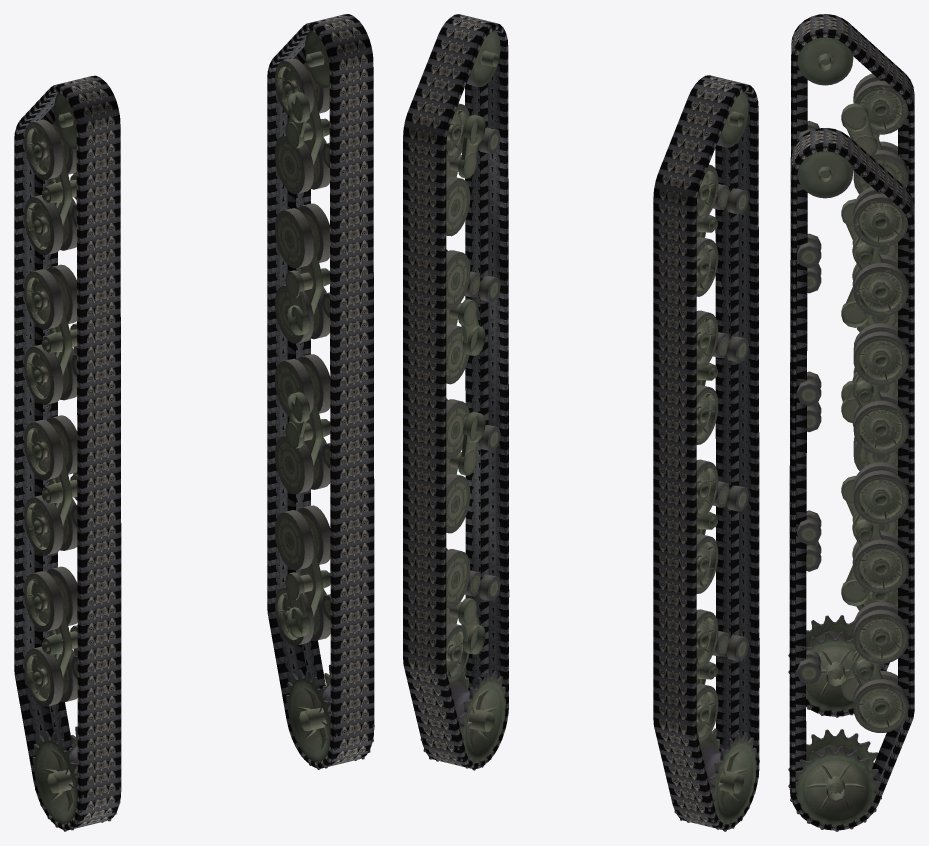
File: Chassis.glb
3 renders of one model, left to right at view 1: azimuth 30°, elevation 25°; view 2: azimuth 150°, elevation 25°; view 3: azimuth 270°, elevation 25°, orthographic. The views are drawn at different scales.
Parts seen in each view (by area): view 1: set_3_group_0, set_2_group_0, set_0_group_0, set_1_group_0; view 2: set_3_group_0, set_2_group_0, set_0_group_0, set_1_group_0; view 3: set_0_group_0, set_2_group_0, set_1_group_0, set_3_group_0.
Boxes of the visible parts, x1,y1,x2,y2 form: set_3_group_0: (14,75,121,830); set_2_group_0: (267,14,374,768); set_0_group_0: (275,30,374,769); set_1_group_0: (24,92,121,831); set_3_group_0: (653,75,759,830); set_2_group_0: (403,14,509,769); set_0_group_0: (420,30,505,770); set_1_group_0: (671,92,759,831); set_0_group_0: (788,151,908,831); set_2_group_0: (789,128,914,830); set_1_group_0: (788,37,908,717); set_3_group_0: (789,14,914,716).
Bounding box in the file's own units: 4.05 × 9.57 × 1.59.
Materials: 4 (4 with a texture image).
